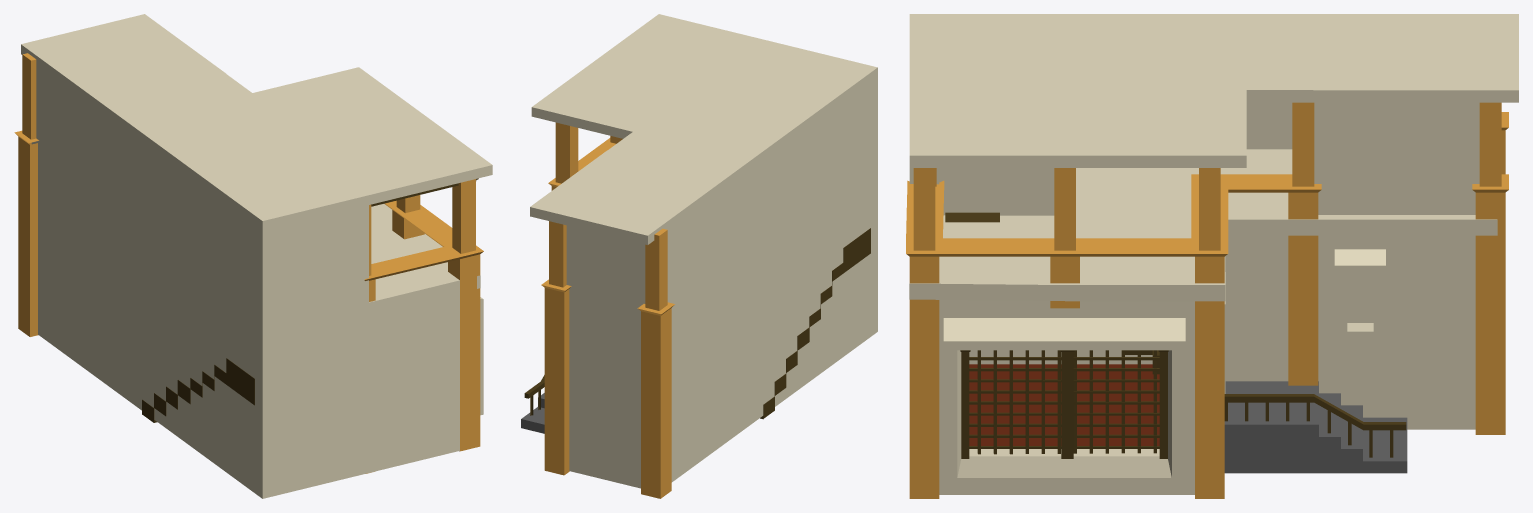
The model's file is casa.glb.
The picture shows the model from 3 angles, left to right: view 1: azimuth 30°, elevation 25°; view 2: azimuth 150°, elevation 25°; view 3: azimuth 270°, elevation 25°; orthographic projection. The views are drawn at different scales.
Visible parts, largest first — view 1: edificio, columnas, columnas.002, escaleras; view 2: edificio, columnas.002, columnas.001, escaleras, columnas; view 3: edificio, columnas, ventana, columnas.001, barandal, escaleras.
Part boxes in pixels (x1,y1,x2,y2): edificio: [21, 14, 492, 498]; columnas: [364, 179, 483, 473]; columnas.002: [14, 53, 38, 336]; escaleras: [142, 358, 254, 422]; edificio: [521, 14, 877, 488]; columnas.002: [637, 228, 674, 498]; columnas.001: [541, 221, 571, 475]; escaleras: [760, 228, 870, 419]; columnas: [548, 122, 622, 190]; edificio: [909, 14, 1518, 494]; columnas: [906, 102, 1321, 498]; ventana: [960, 350, 1168, 458]; columnas.001: [1472, 102, 1508, 434]; barandal: [1224, 394, 1406, 457]; escaleras: [945, 212, 1159, 374].
Bounding box in the file's own units: 6.64 × 7.3 × 11.41.
